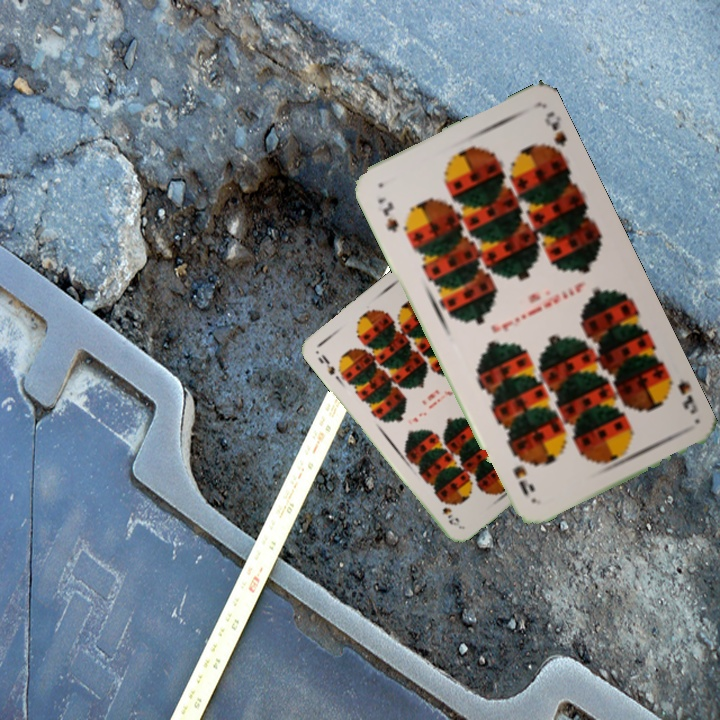S9: (659, 369, 701, 417), (373, 193, 401, 235), (313, 350, 338, 378)
